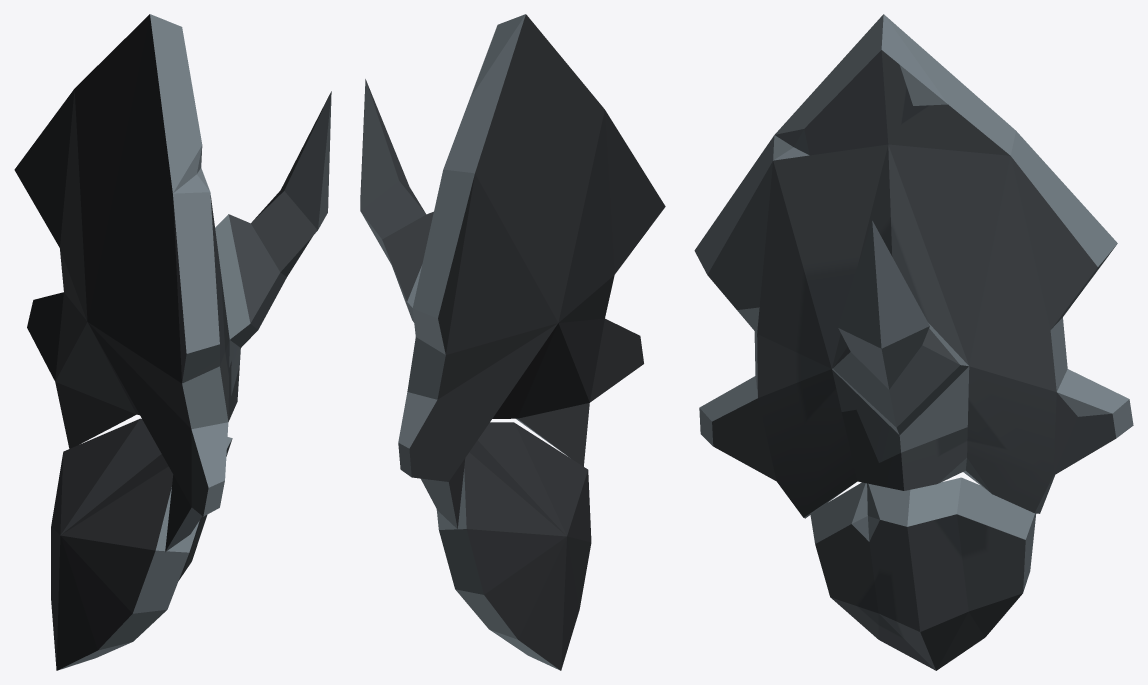
The model's file is SM_Chr_Attach_Armour_Dark_Leg_FL_Wolf_01.fbx.
The picture shows the model from 3 angles, left to right: view 1: azimuth 30°, elevation 25°; view 2: azimuth 150°, elevation 25°; view 3: azimuth 270°, elevation 25°; orthographic projection. The views are drawn at different scales.
Parts seen in each view (by area): view 1: SM_Chr_Attach_Armour_Dark_Leg_FL_Wolf_01; view 2: SM_Chr_Attach_Armour_Dark_Leg_FL_Wolf_01; view 3: SM_Chr_Attach_Armour_Dark_Leg_FL_Wolf_01.
Part boxes in pixels (left/top/right/bottom): SM_Chr_Attach_Armour_Dark_Leg_FL_Wolf_01: left=14, top=14, right=331, bottom=670; SM_Chr_Attach_Armour_Dark_Leg_FL_Wolf_01: left=360, top=14, right=665, bottom=670; SM_Chr_Attach_Armour_Dark_Leg_FL_Wolf_01: left=694, top=14, right=1133, bottom=670.
Size of the model in its own units: 12.83 by 33.28 by 19.58.
